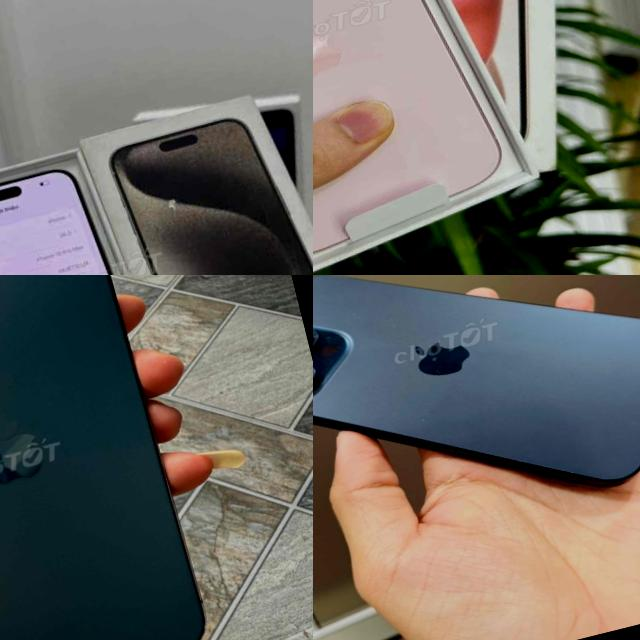gen_12_13: (0, 275, 222, 640), (313, 0, 549, 275)
gen_15: (313, 275, 640, 570), (0, 136, 188, 275)
